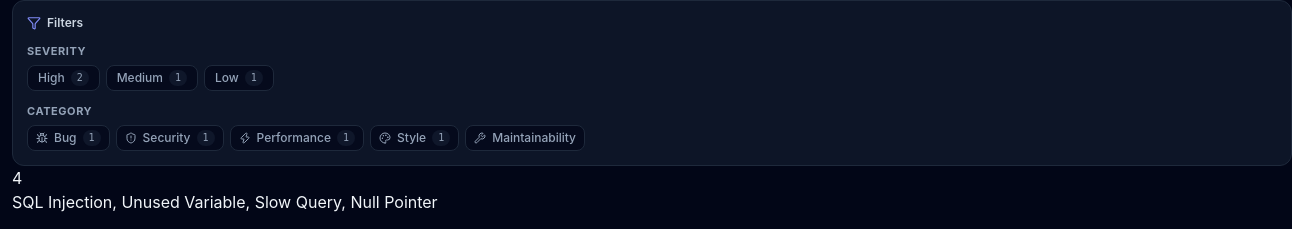
Test: FilterBar & Issue Filtering Logic › clears all filters when Clear Filters button is clicked
What coordinates should you click on to do the following:
click the button with test id "filter-severity-high"
I would click on:
 (63, 78)
Its box is 27,65 -> 100,91.
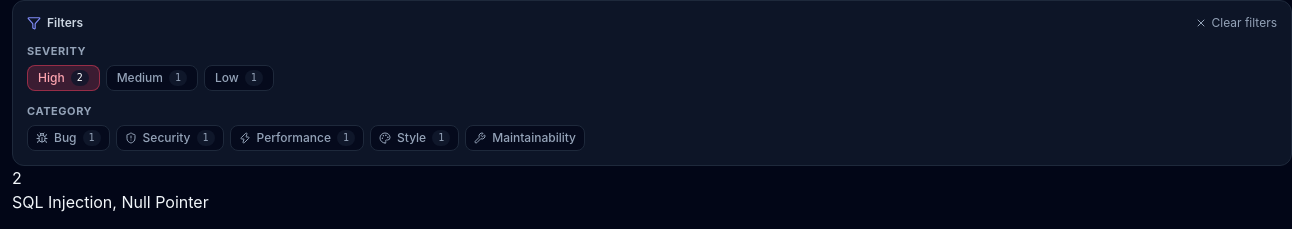
expect the text with test id "filtered-count" reads "2": met, box 12,168 -> 22,188
expect the button with test id "clear-filters-btn" is shown: met
What coordinates should you click on to do the following:
click the button with test id "clear-filters-btn"
I would click on:
 (1236, 23)
Its box is 1196,15 -> 1277,31.
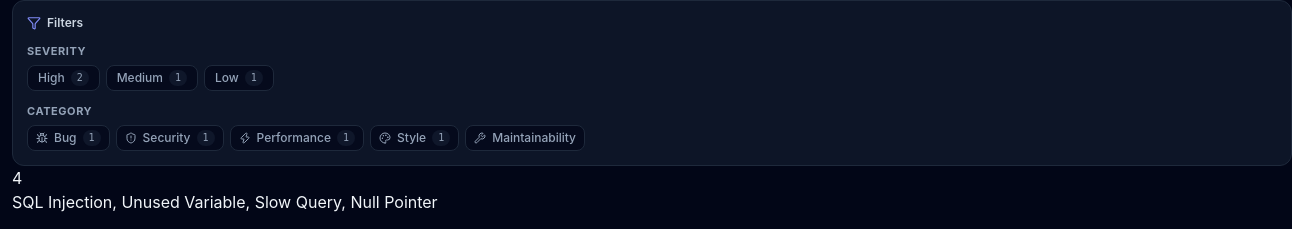
expect the text with test id "filtered-count" reads "4": met, box 12,168 -> 22,188
